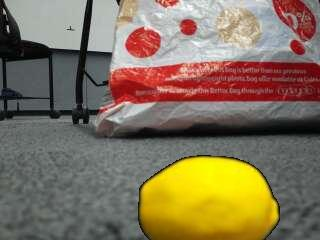lemon: (140, 154, 279, 238)
